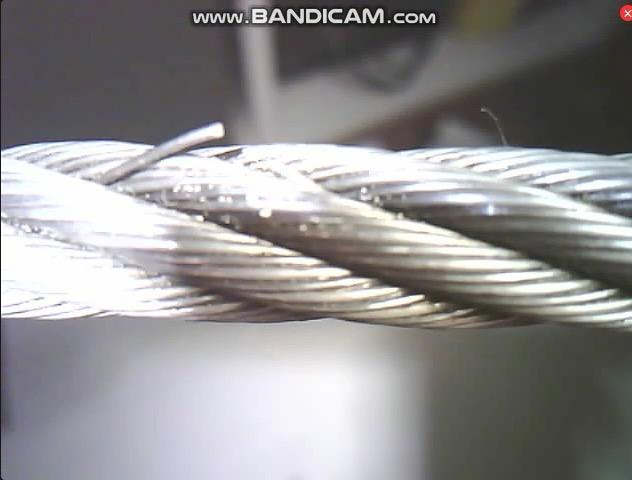break: (92, 109, 252, 189)
